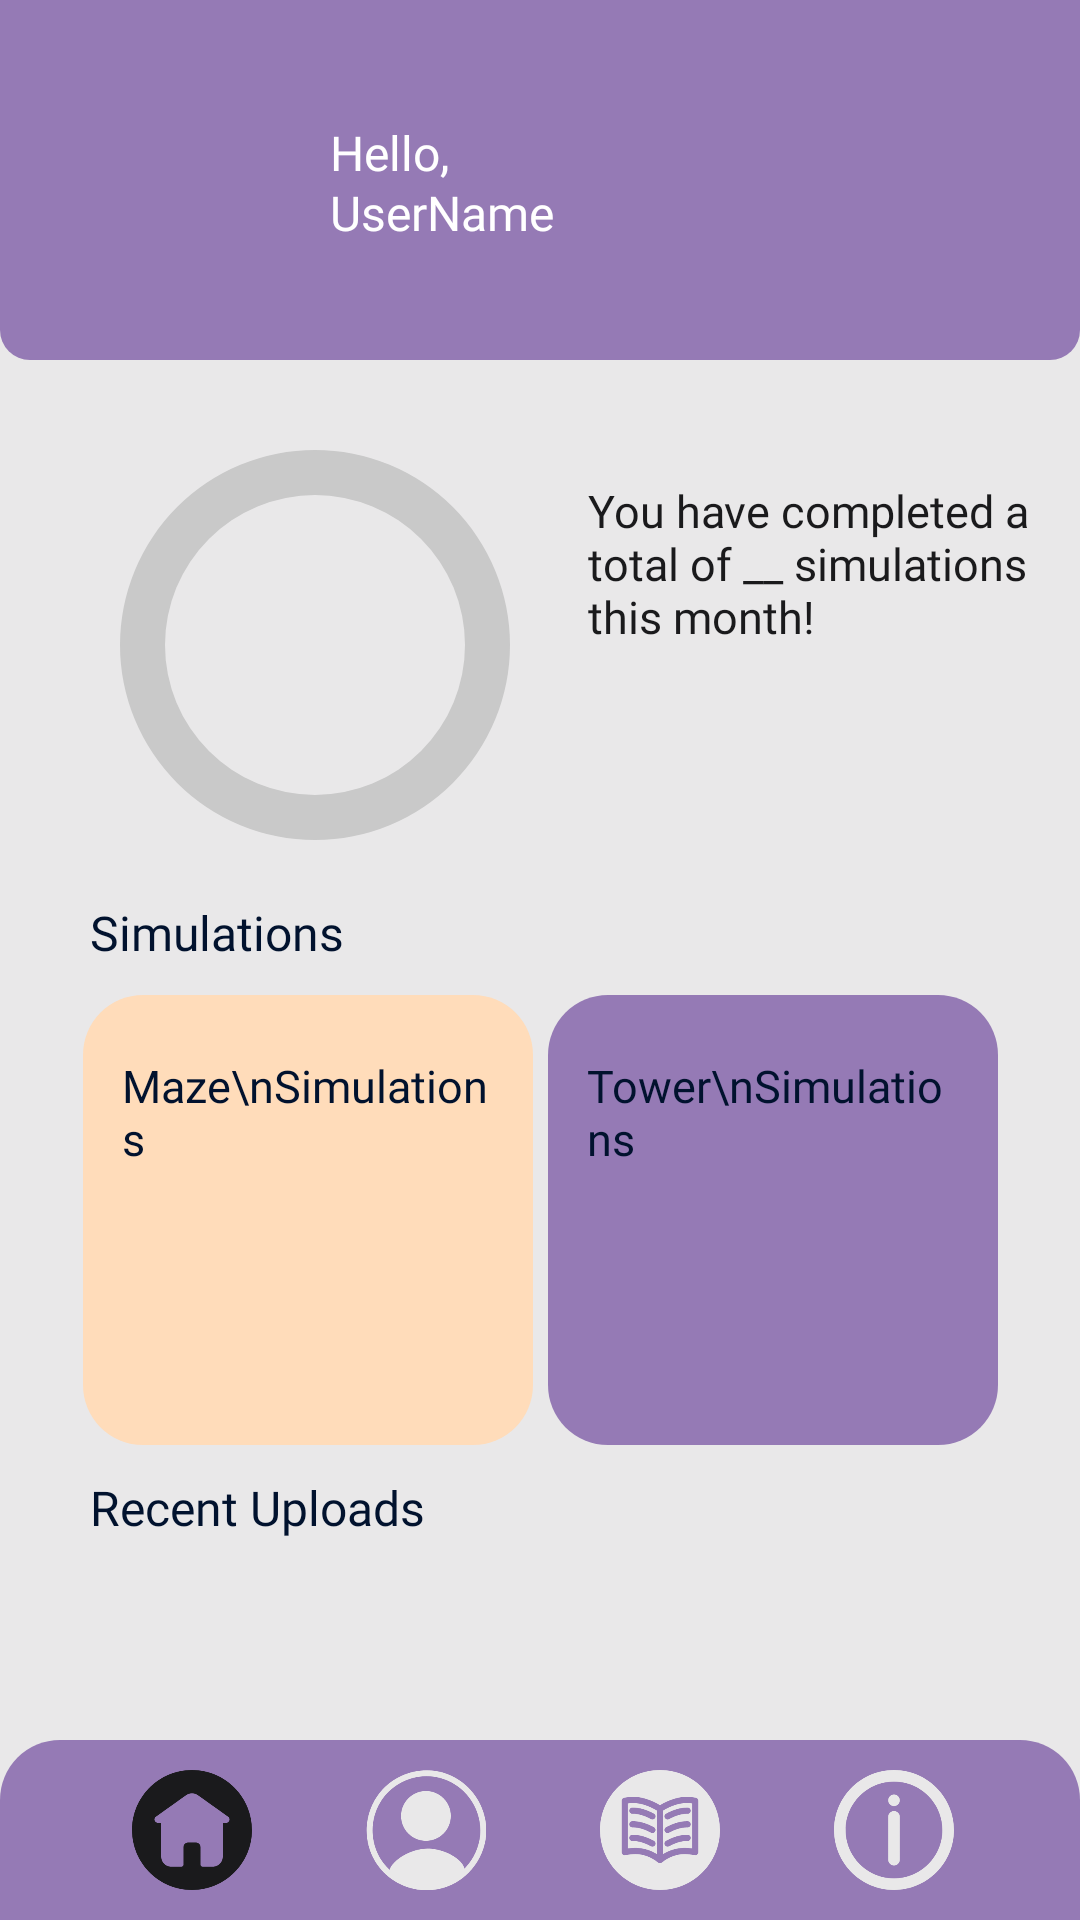

Where to tap for icons on this 1080px×1920px app screen, as [x,y]:
home: [192,1830]
info: [894,1830]
note: [660,1830]
profile: [426,1830]
